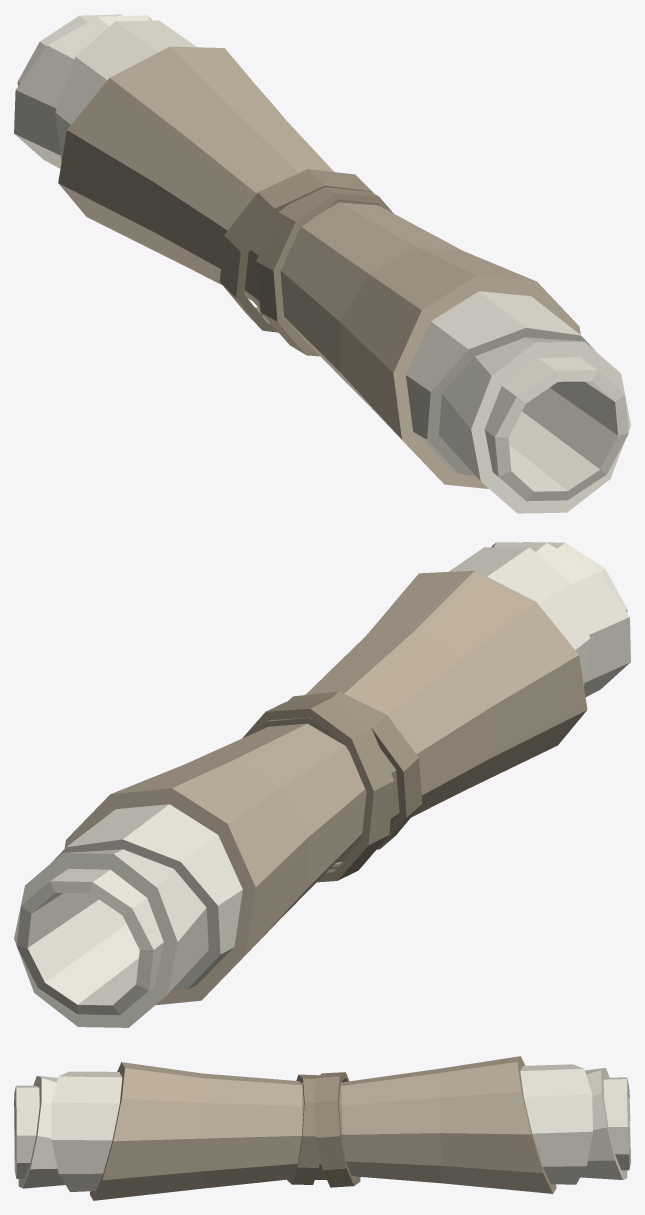
File: scroll.fbx
3 renders of one model, top to bottom at view 1: azimuth 30°, elevation 25°; view 2: azimuth 150°, elevation 25°; view 3: azimuth 270°, elevation 25°, orthographic. The views are drawn at different scales.
Visible parts, largest first — view 1: scroll_1; view 2: scroll_1; view 3: scroll_1.
Boxes of the visible parts, x1,y1,x2,y2 form: scroll_1: [14, 14, 630, 513]; scroll_1: [14, 542, 630, 1027]; scroll_1: [14, 1056, 630, 1200].
Bounding box in the file's own units: 0.1614 × 0.1647 × 0.6999.
